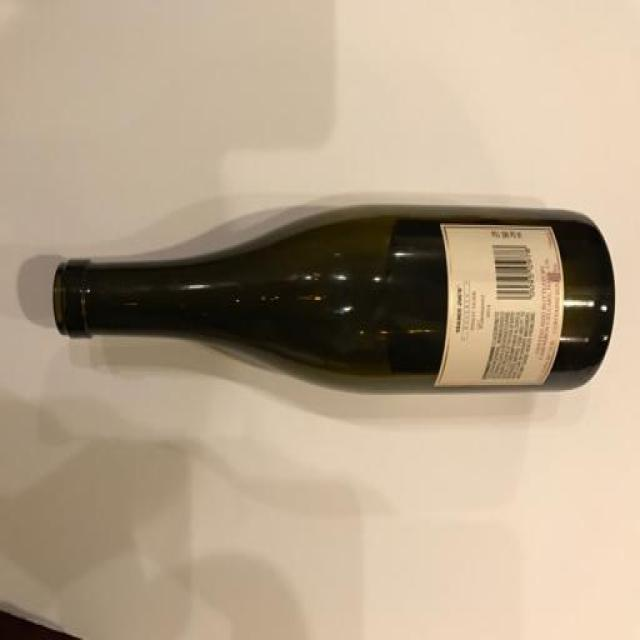glass: (25, 196, 619, 412)
